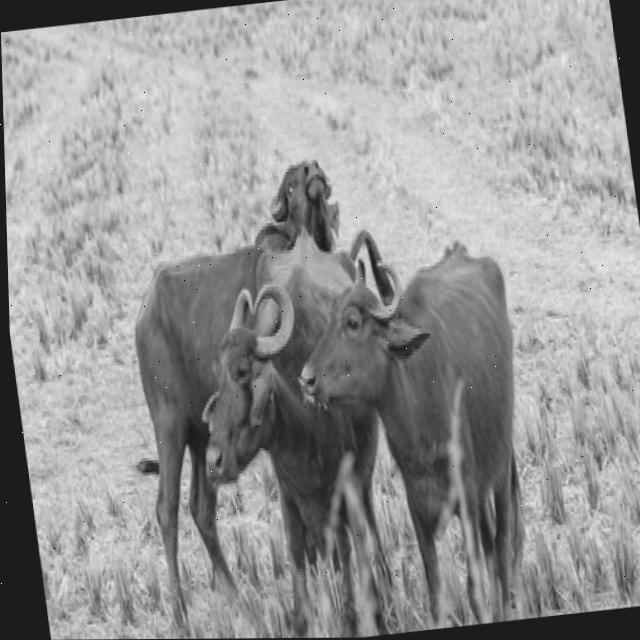Buffalo: (285, 239, 553, 638)
